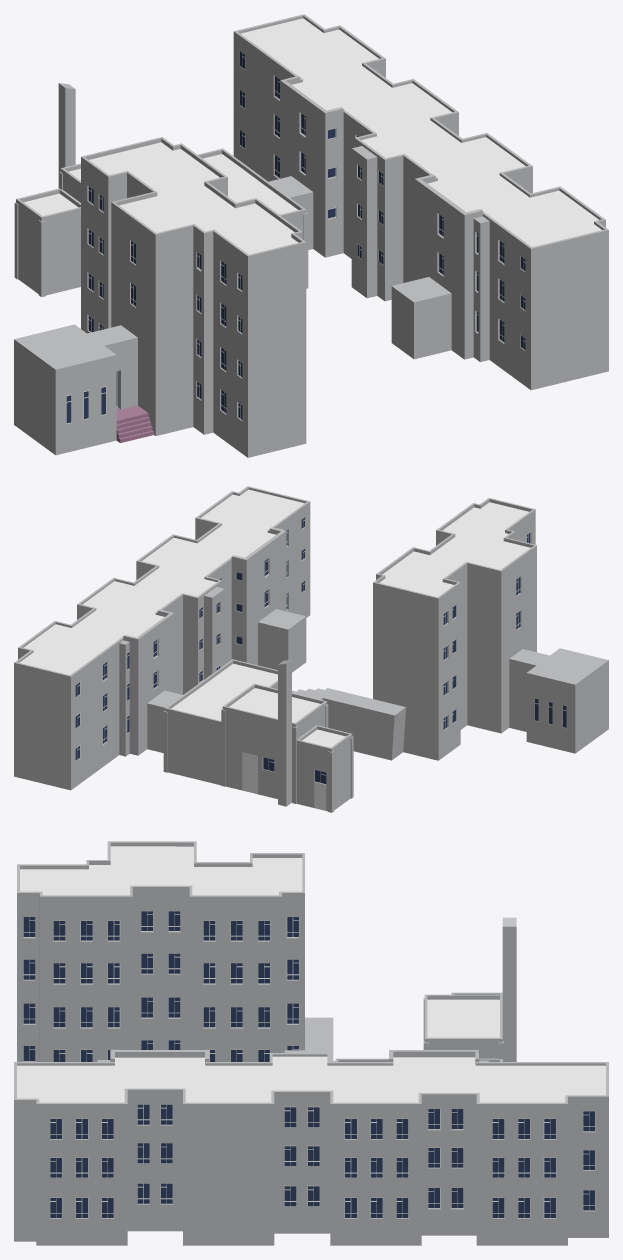
The model's file is Building_6.fbx.
The picture shows the model from 3 angles, top to bottom: view 1: azimuth 30°, elevation 25°; view 2: azimuth 150°, elevation 25°; view 3: azimuth 270°, elevation 25°; orthographic projection. The views are drawn at different scales.
Visible parts, largest first — view 1: Building_6; view 2: Building_6; view 3: Building_6.
Part boxes in pixels (bbox=[...]): Building_6: bbox=[14, 14, 608, 457]; Building_6: bbox=[14, 486, 608, 812]; Building_6: bbox=[14, 841, 608, 1245].
Size of the model in its own units: 42.72 by 16.16 by 43.2.
